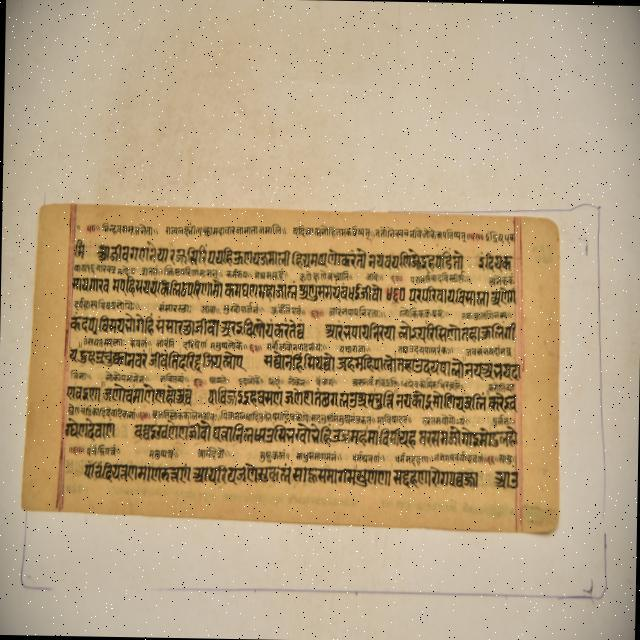text_paragraph: (19, 207, 558, 535)
